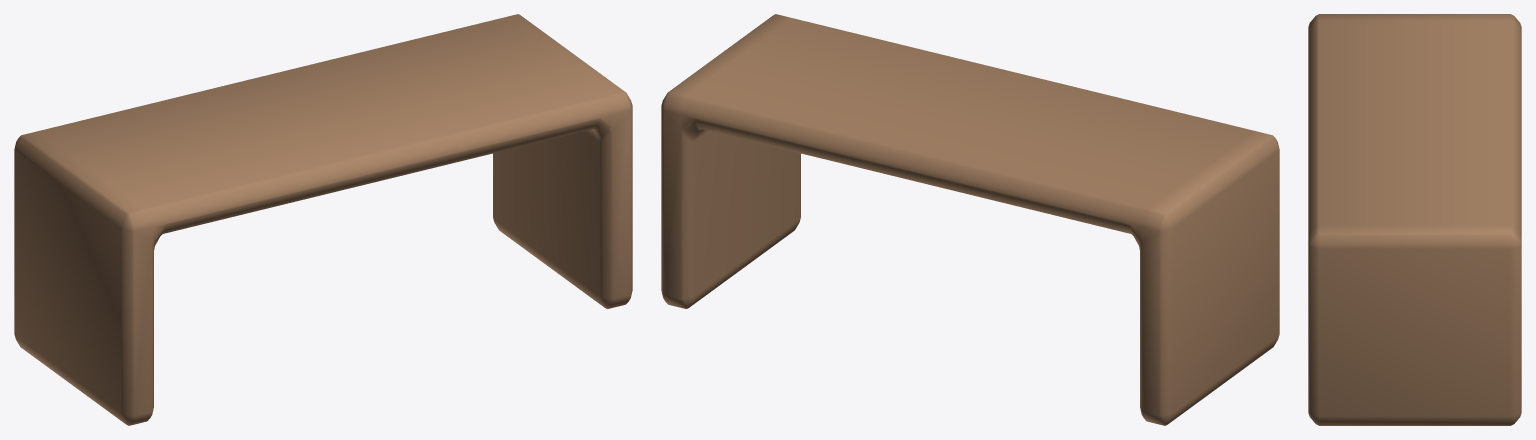
3 views of the same model, side by side, from view 1: azimuth 30°, elevation 25°; view 2: azimuth 150°, elevation 25°; view 3: azimuth 270°, elevation 25° (orthographic). The views are drawn at different scales.
Visible parts, largest first — view 1: Cube; view 2: Cube; view 3: Cube.
Boxes of the visible parts, x1,y1,x2,y2 form: Cube: [14, 14, 632, 425]; Cube: [661, 14, 1279, 425]; Cube: [1308, 14, 1521, 425].
Bounding box in the file's own units: 1 × 0.4 × 0.4.
